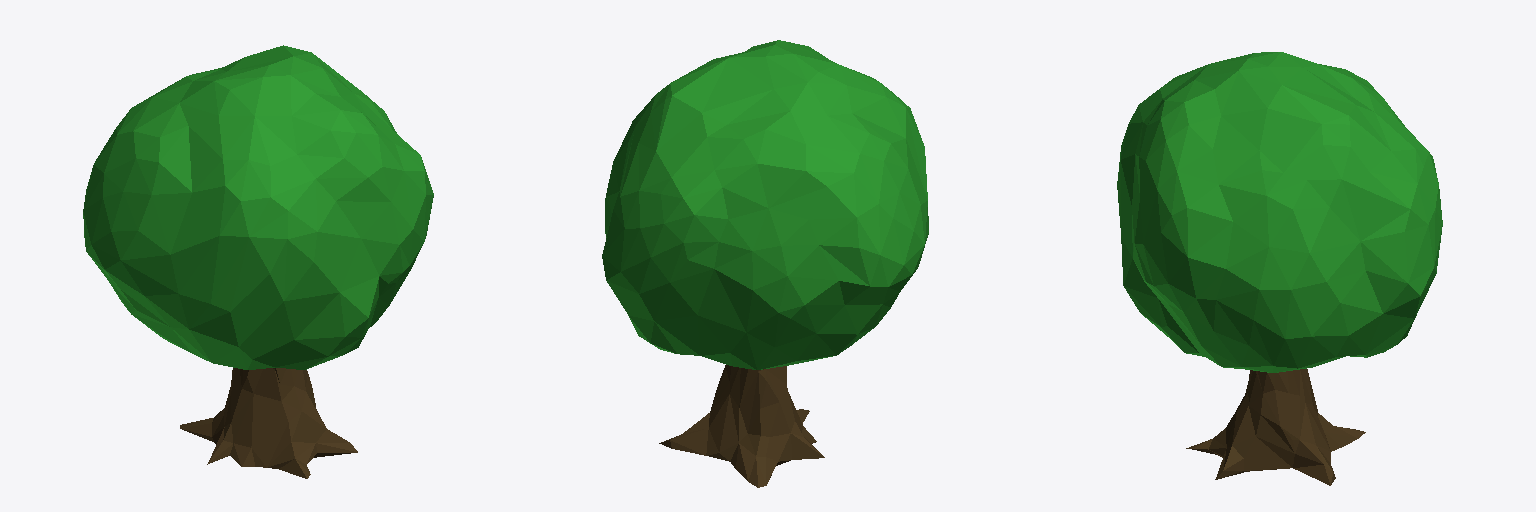
3 views of the same model, side by side, from view 1: azimuth 30°, elevation 25°; view 2: azimuth 150°, elevation 25°; view 3: azimuth 270°, elevation 25° (orthographic).
Parts seen in each view (by area): view 1: tree4; view 2: tree4; view 3: tree4.
Boxes of the visible parts, x1,y1,x2,y2 form: tree4: [83, 45, 433, 478]; tree4: [602, 40, 928, 487]; tree4: [1117, 52, 1442, 485].
Bounding box in the file's own units: 247 × 304 × 232.
Materials: 1 (1 with a texture image).